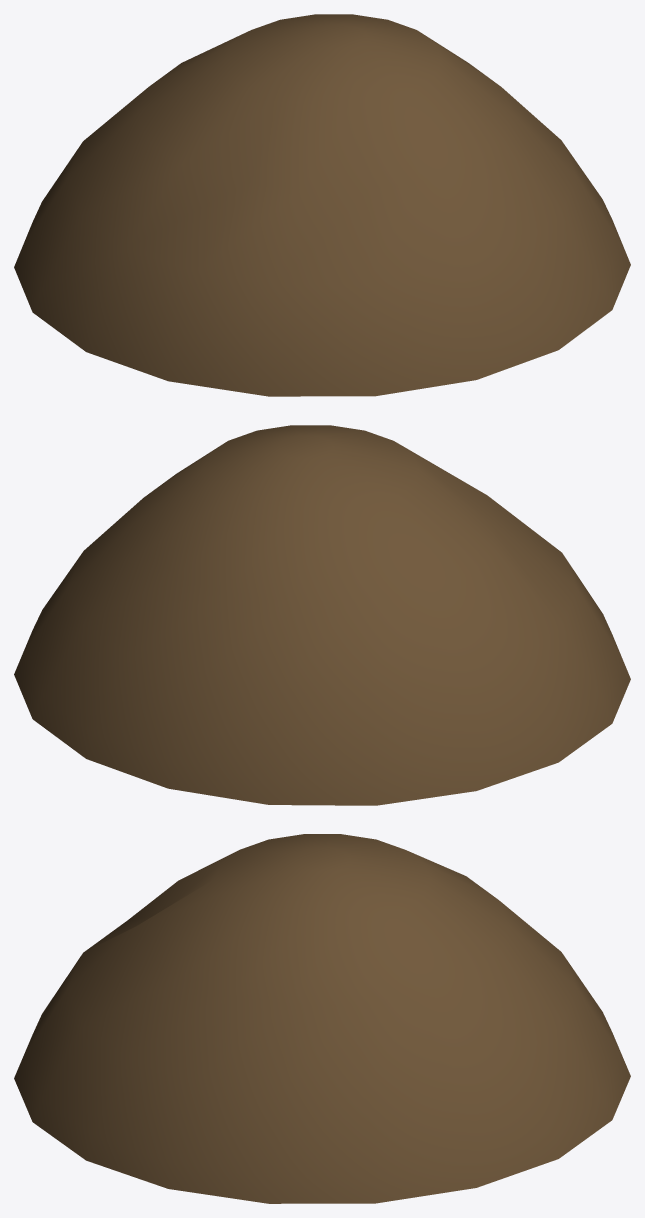
Rendered from Sand_1.fbx.
3 renders of one model, top to bottom at view 1: azimuth 30°, elevation 25°; view 2: azimuth 150°, elevation 25°; view 3: azimuth 270°, elevation 25°, orthographic.
Parts seen in each view (by area): view 1: Sand_1; view 2: Sand_1; view 3: Sand_1.
Part boxes in pixels (left/top/right/bottom): Sand_1: left=14, top=14, right=630, bottom=396; Sand_1: left=14, top=425, right=630, bottom=805; Sand_1: left=14, top=834, right=630, bottom=1203.
Size of the model in its own units: 338 by 140 by 343.
